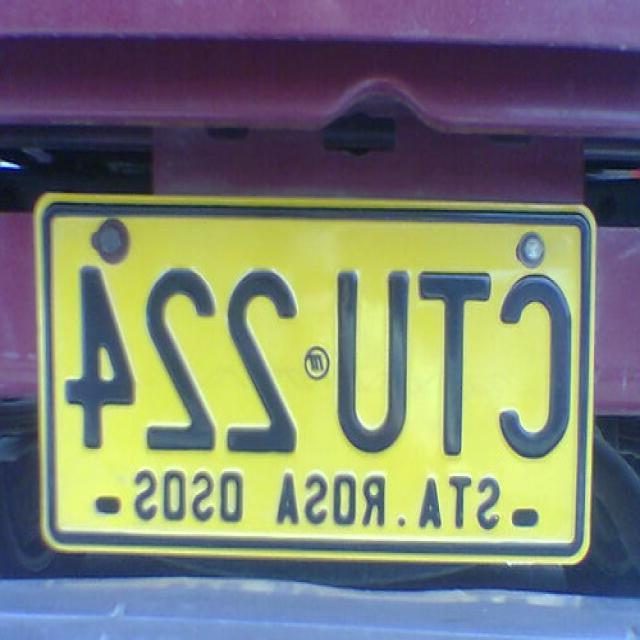placas: (62, 260, 577, 477)
